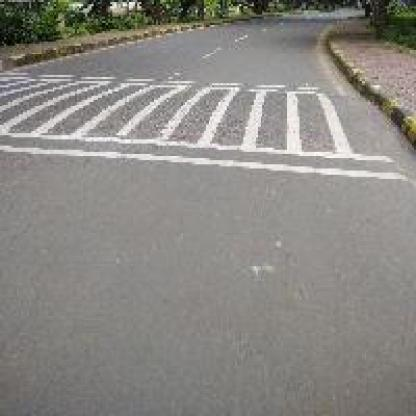Speed Bump: (0, 62, 410, 181)
